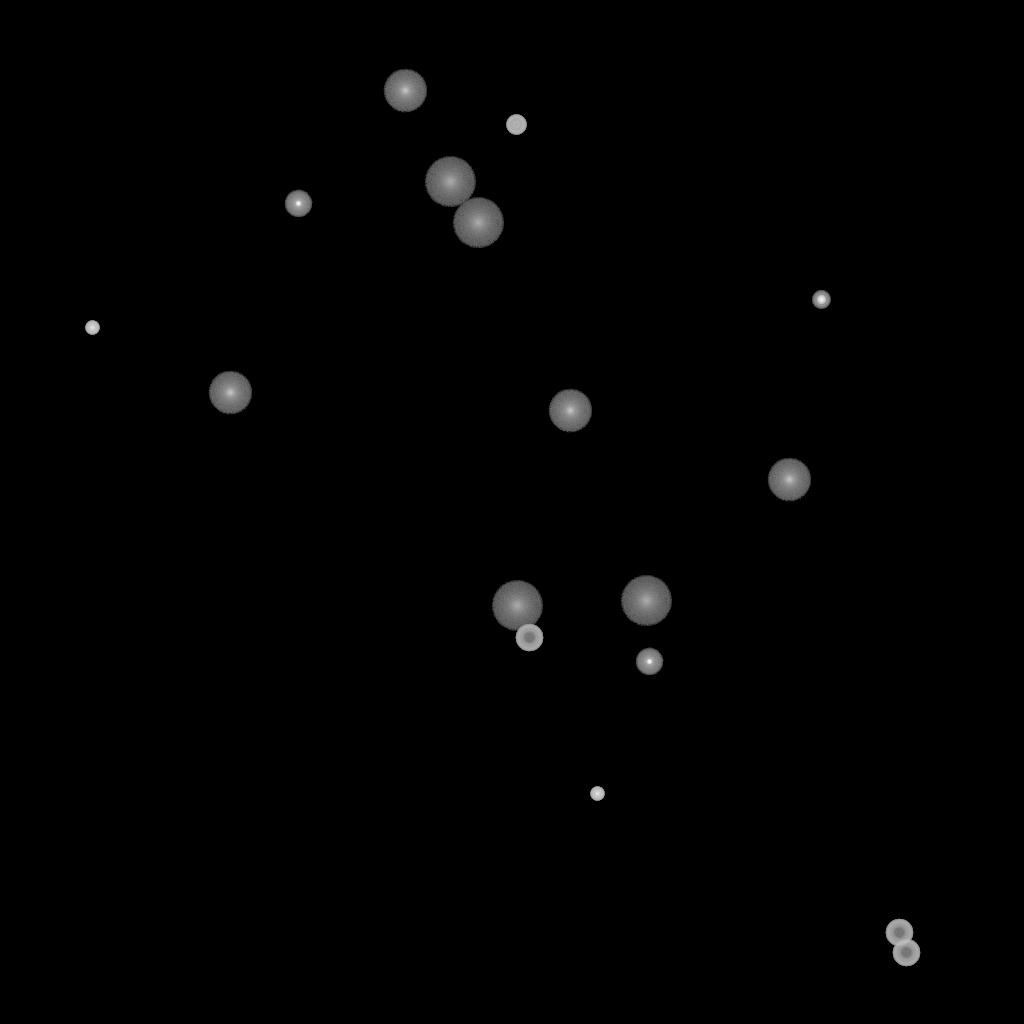depth:-10: (284, 190, 312, 218), (635, 648, 663, 676)
depth:-20: (812, 291, 830, 309)
depth:-30: (590, 787, 604, 801), (85, 321, 99, 335)
depth:-40: (506, 115, 526, 135)
depth:-50: (515, 624, 543, 652), (892, 939, 920, 967), (885, 919, 913, 947)
depth:10: (208, 371, 252, 415), (767, 458, 811, 502), (548, 389, 592, 433), (383, 69, 427, 113)
depth:20: (452, 198, 504, 248), (620, 576, 672, 626), (491, 581, 543, 631), (424, 157, 476, 207)
